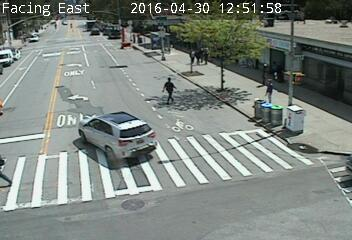pos: (156, 73, 179, 104), (196, 44, 216, 71), (189, 45, 207, 68), (256, 65, 273, 88), (262, 79, 279, 101), (185, 48, 201, 69), (130, 31, 139, 44)
